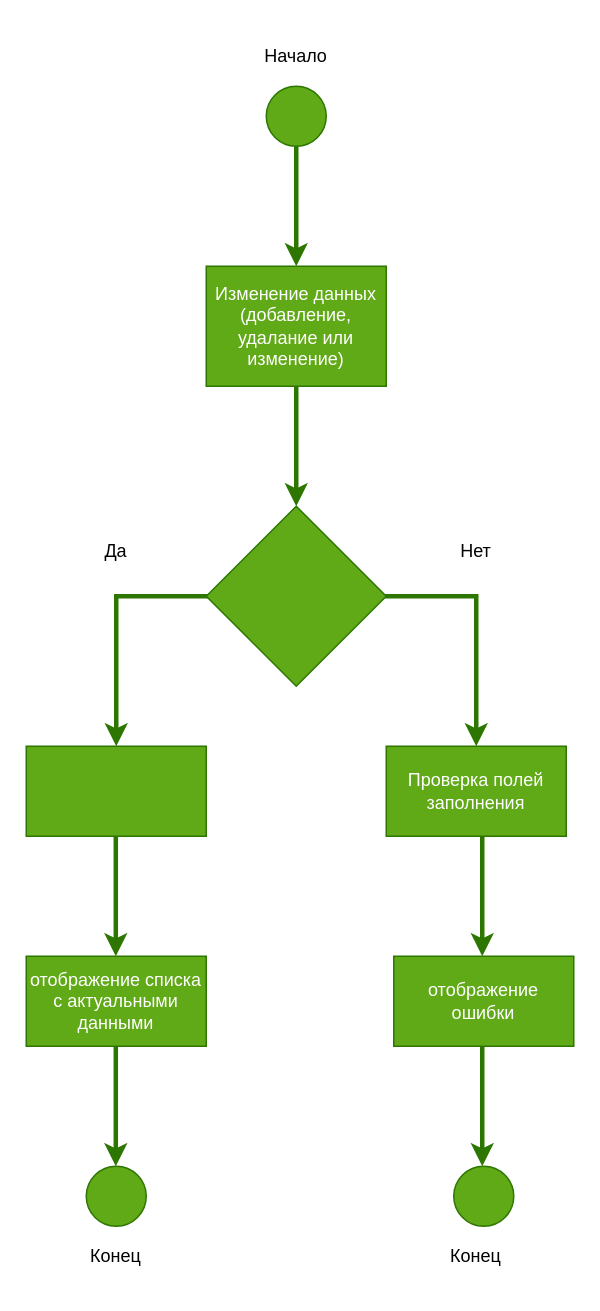
The diagram is 600 pixels wide and 1311 high, and some of its shapes have lost their labels. The shapes that lost their labels are listed below. From the top down, each one's centre as x and y in pixels, then its label:
At point 295,595: "Данные корректны".
At point 115,790: "Внос данных в БД".
